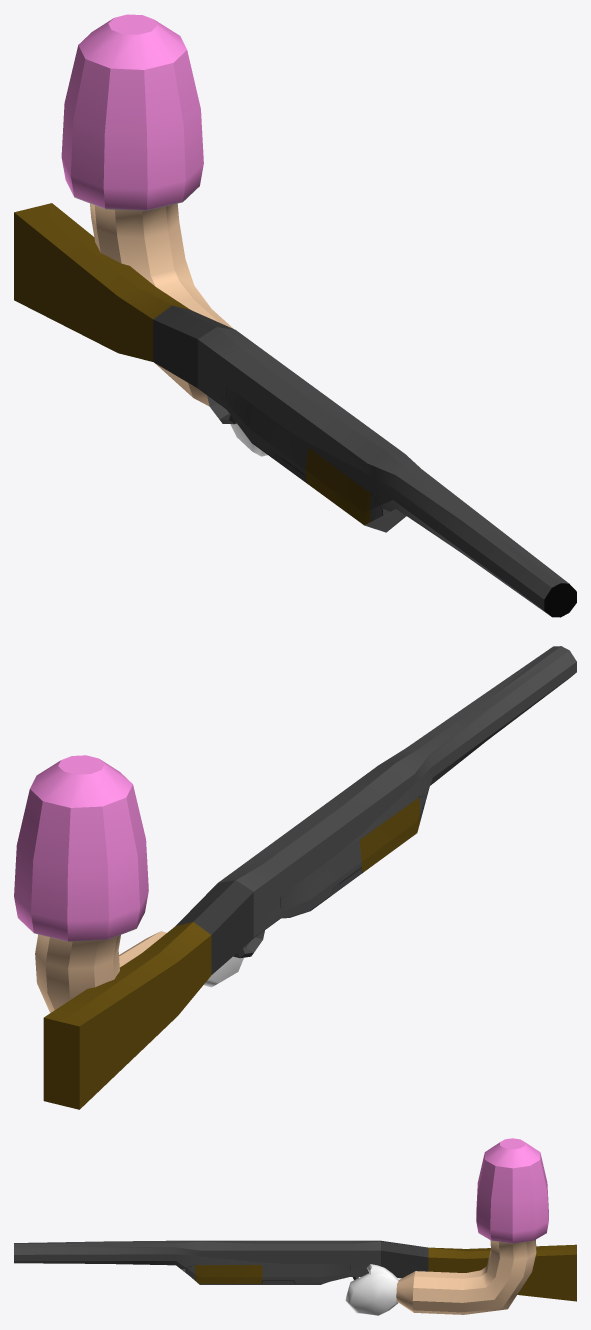
The model's file is sg_ojosama_L.obj.
The picture shows the model from 3 angles, top to bottom: view 1: azimuth 30°, elevation 25°; view 2: azimuth 150°, elevation 25°; view 3: azimuth 270°, elevation 25°; orthographic projection. The views are drawn at different scales.
Visible parts, largest first — view 1: L pasted__pCylinder1 pasted__group1 group6, pCylinder4 group5 L L; view 2: L pasted__pCylinder1 pasted__group1 group6, pCylinder4 group5 L L; view 3: L pasted__pCylinder1 pasted__group1 group6, pCylinder4 group5 L L, group5 L L pasted__pCube3.
Part boxes in pixels (x1,y1,x2,y2): L pasted__pCylinder1 pasted__group1 group6: (14,203,576,617); pCylinder4 group5 L L: (61,14,233,406); L pasted__pCylinder1 pasted__group1 group6: (43,646,576,1109); pCylinder4 group5 L L: (14,755,166,1012); L pasted__pCylinder1 pasted__group1 group6: (14,1240,576,1301); pCylinder4 group5 L L: (396,1138,548,1314); group5 L L pasted__pCube3: (345,1264,398,1315).
Bounding box in the file's own units: 0.2246 × 0.5598 × 1.66.
1 material, 1 textured.
